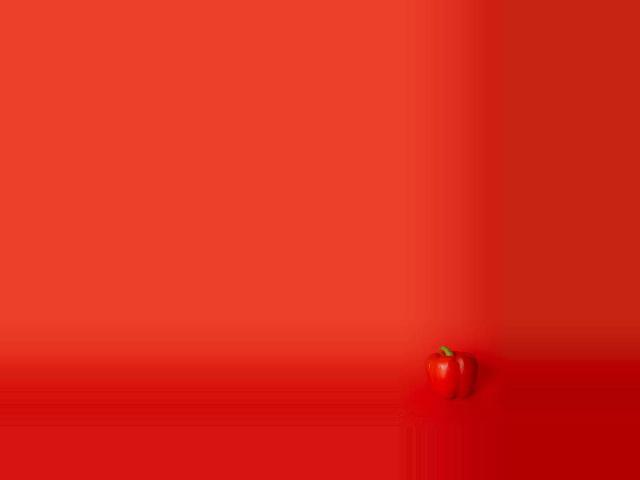bell_pepper: (427, 344, 479, 403)
